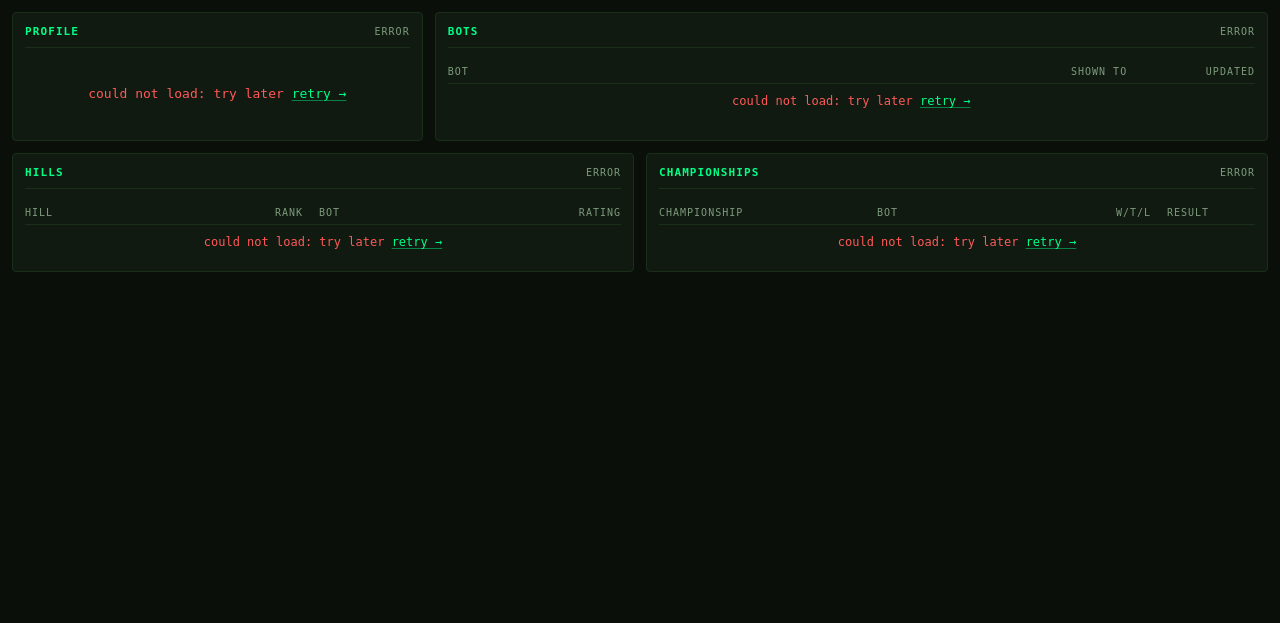
Test: /u/$handle › says each list failed with the profile, and one retry reads them all
Check: the text "could not load: try later" is shown 4 times, box [88,86,284,101]; [732,94,913,108]; [204,235,384,249]; [838,235,1018,249]
What coordinates should you click on to do the following:
click the button "retry →" below "profile"
I would click on:
 (319, 94)
Its box is [292,84,346,104].
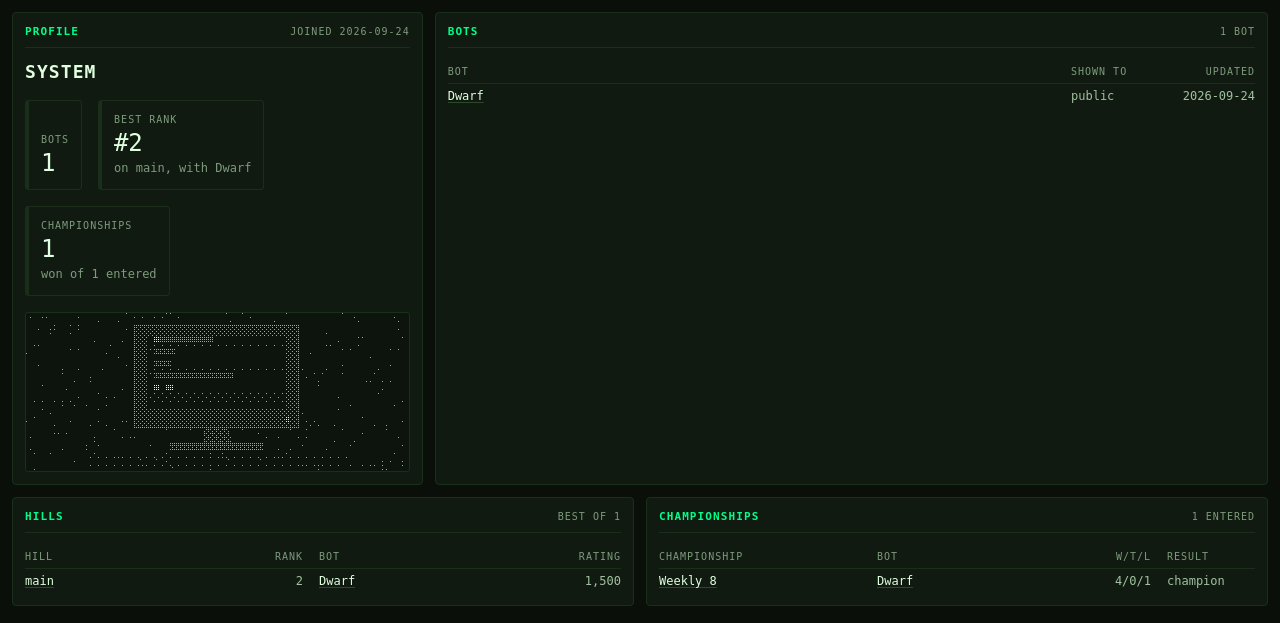
Check: the heading "system" is shown, box [25,60,96,84]
Check: the text "could not load" is gone
